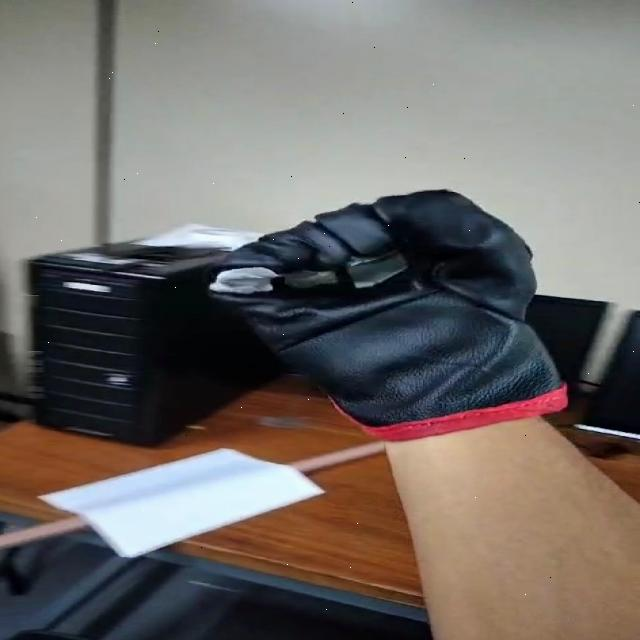Gloves: (213, 188, 574, 446)
